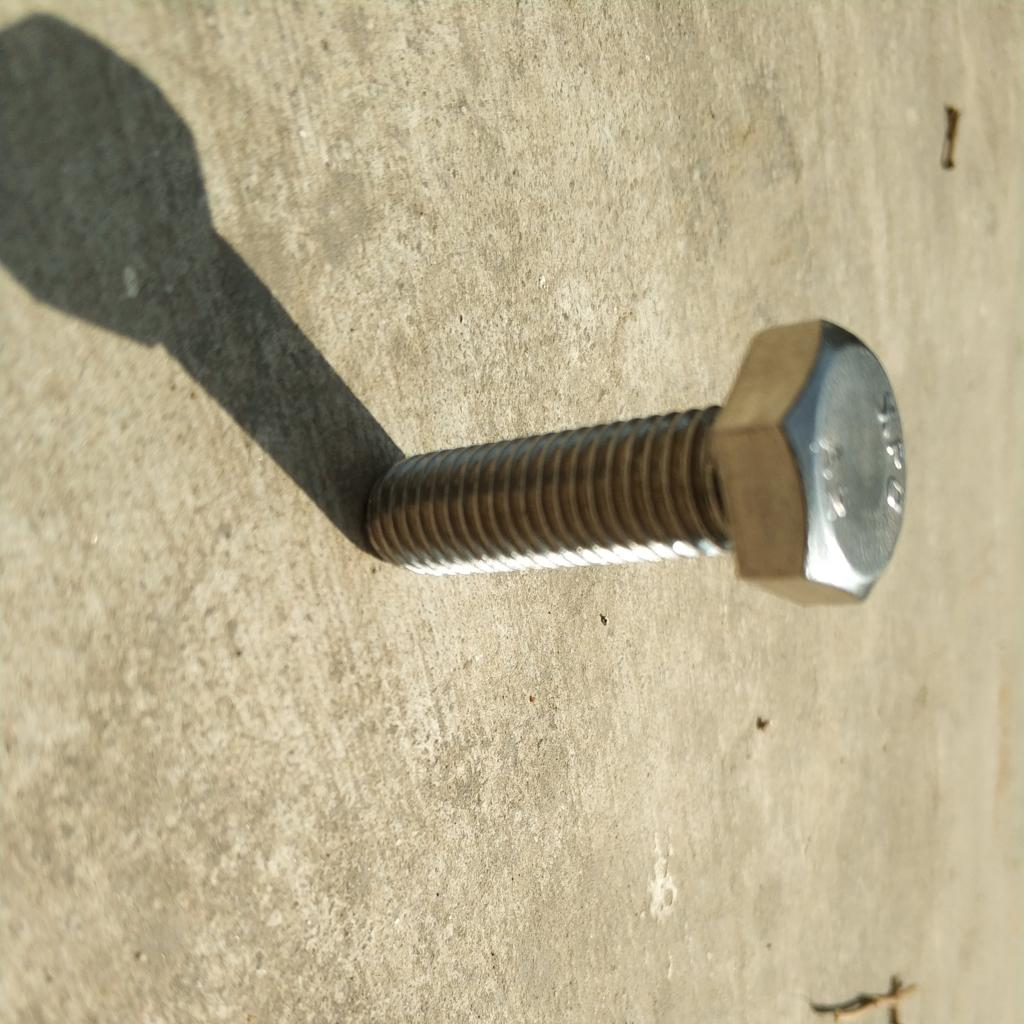screwtype2silver: (356, 314, 913, 630)
